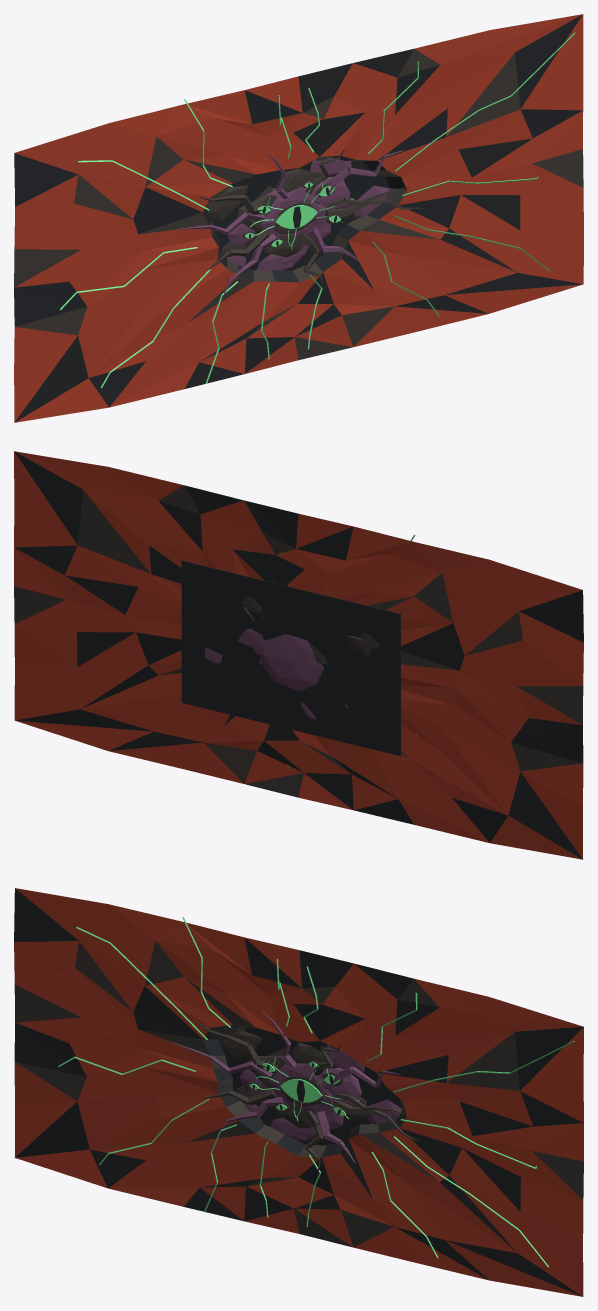
Rendered from Cutscene_SourceGlimpse.fbx.
3 renders of one model, top to bottom at view 1: azimuth 30°, elevation 25°; view 2: azimuth 150°, elevation 25°; view 3: azimuth 330°, elevation 25°, orthographic.
Visible parts, largest first — view 1: Decor, DecorNeonGlow, Eye1; view 2: Decor; view 3: Decor, DecorNeonGlow, Eye1.
Part boxes in pixels (x1=…): Decor: x1=14, y1=14, x2=583, y2=422; DecorNeonGlow: x1=60, y1=32, x2=575, y2=388; Eye1: x1=275, y1=205, x2=317, y2=228; Decor: x1=14, y1=451, x2=583, y2=859; Decor: x1=14, y1=888, x2=583, y2=1296; DecorNeonGlow: x1=58, y1=917, x2=574, y2=1267; Eye1: x1=280, y1=1079, x2=322, y2=1102.
Bounding box in the file's own units: 260 × 127 × 9.19.
